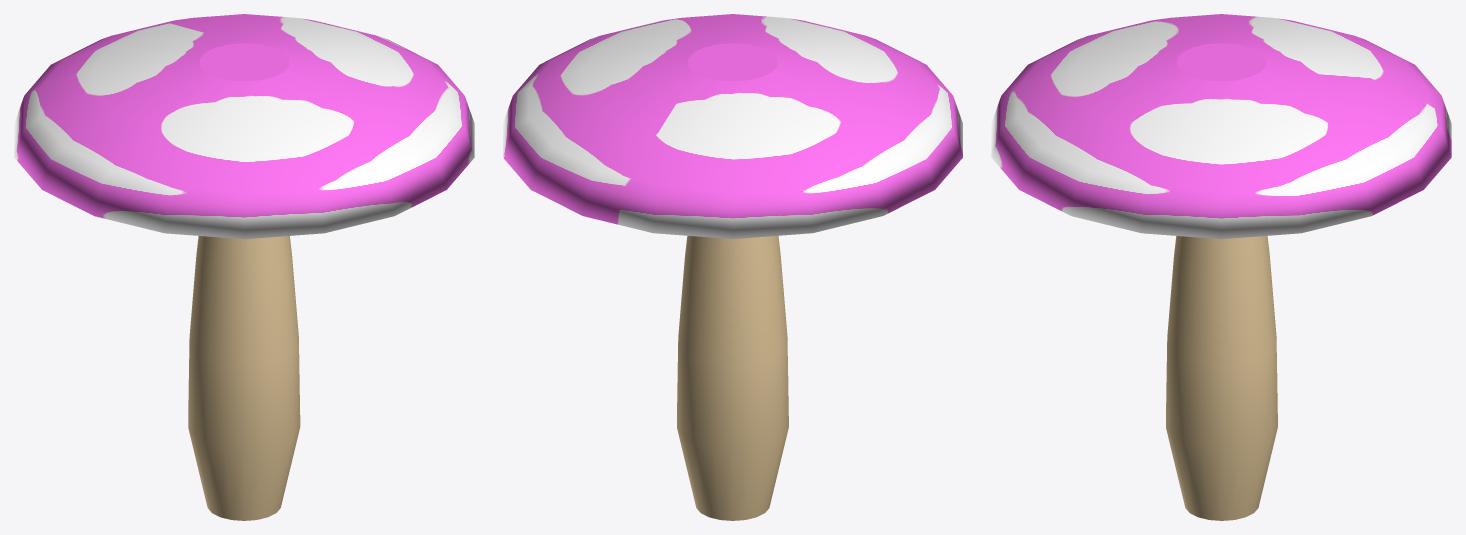
Rendered from dokukinoko.FBX.
The picture shows the model from 3 angles, left to right: view 1: azimuth 30°, elevation 25°; view 2: azimuth 150°, elevation 25°; view 3: azimuth 270°, elevation 25°; orthographic projection.
Visible parts, largest first — view 1: Cylinder002, Cylinder001; view 2: Cylinder002, Cylinder001; view 3: Cylinder002, Cylinder001.
Part boxes in pixels (bbox=[...]): Cylinder002: bbox=[14, 14, 474, 239]; Cylinder001: bbox=[188, 236, 300, 520]; Cylinder002: bbox=[503, 14, 962, 238]; Cylinder001: bbox=[677, 235, 788, 520]; Cylinder002: bbox=[991, 14, 1451, 239]; Cylinder001: bbox=[1166, 236, 1277, 520].
Bounding box in the file's own units: 2129 × 2097 × 2228.
